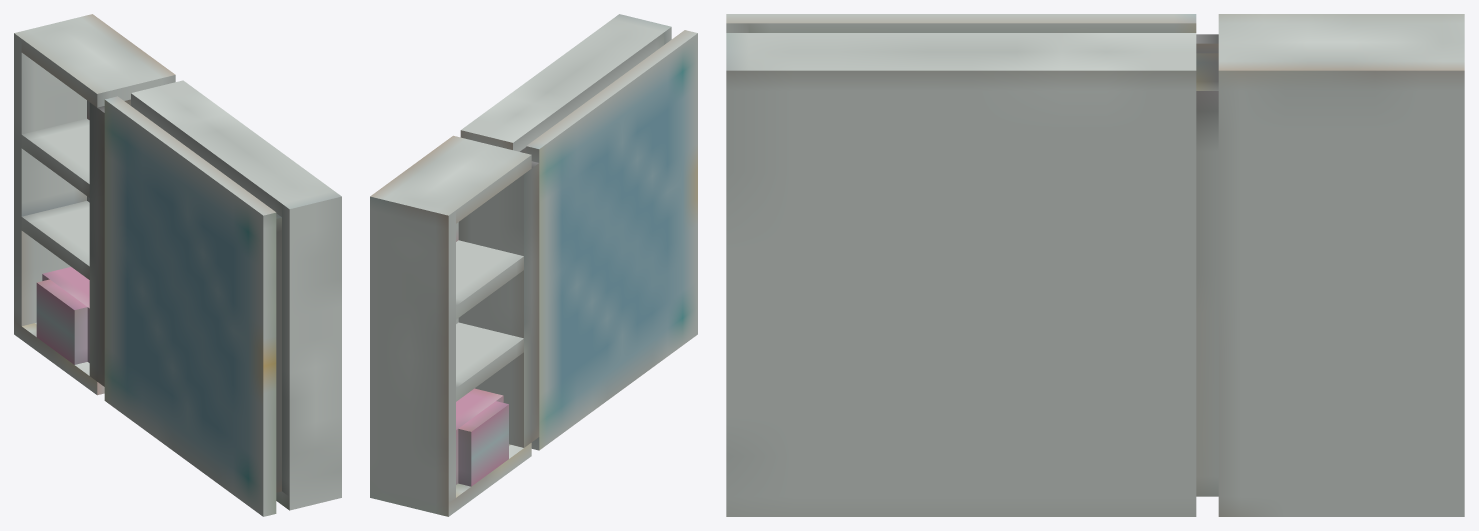
The model's file is CabinetWithMirror_00.obj.
The picture shows the model from 3 angles, left to right: view 1: azimuth 30°, elevation 25°; view 2: azimuth 150°, elevation 25°; view 3: azimuth 270°, elevation 25°; orthographic projection. The views are drawn at different scales.
Visible parts, largest first — view 1: CabinetWithMirror_00; view 2: CabinetWithMirror_00; view 3: CabinetWithMirror_00.
Part boxes in pixels (left/top/right/bottom): CabinetWithMirror_00: left=14, top=14, right=341, bottom=516; CabinetWithMirror_00: left=370, top=14, right=697, bottom=516; CabinetWithMirror_00: left=726, top=14, right=1464, bottom=516.
Bounding box in the file's own units: 0.3 × 1.1 × 1.65.
